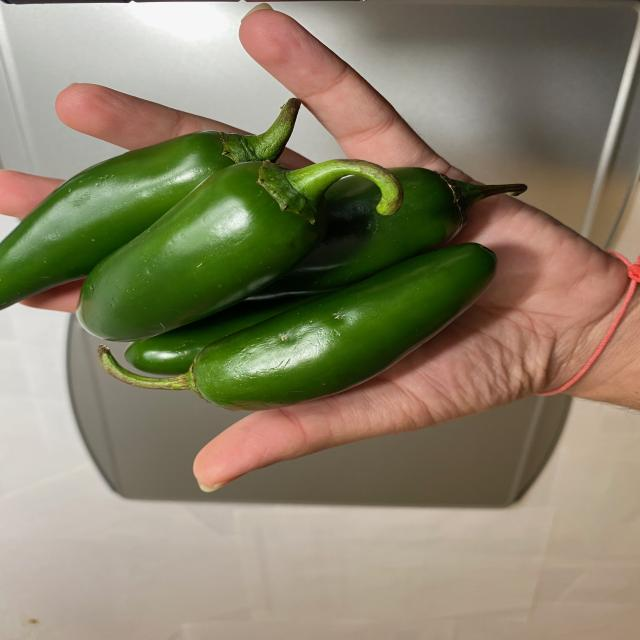chilli: (0, 103, 530, 419)
